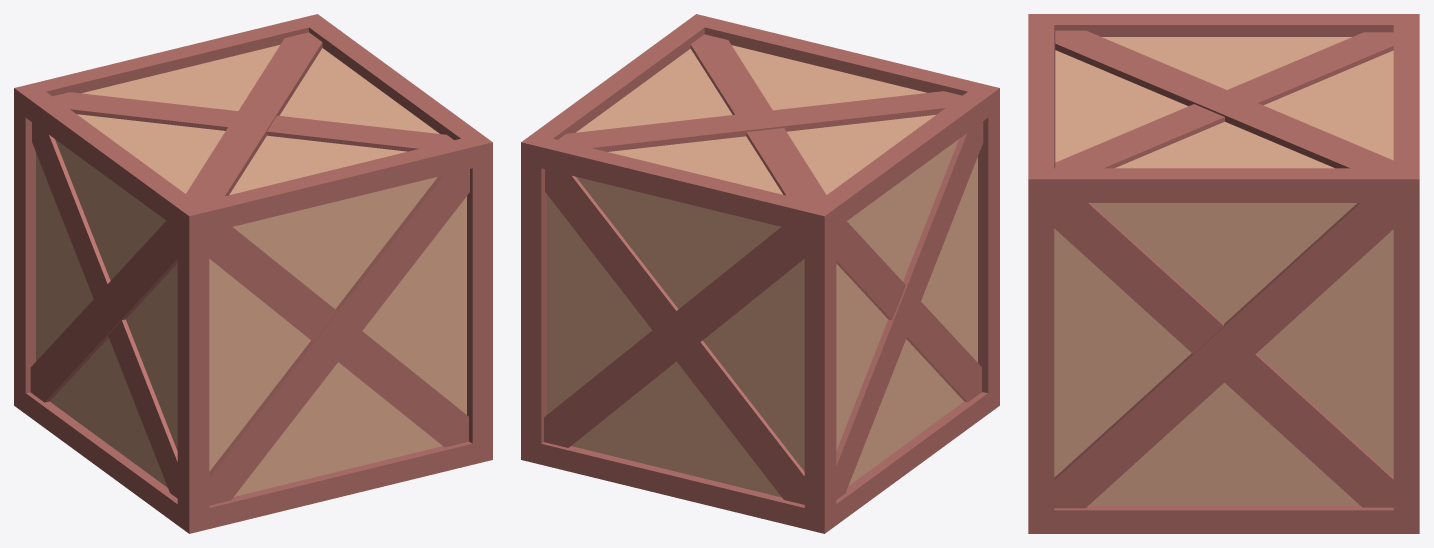
File: Crate.fbx
3 views of the same model, side by side, from view 1: azimuth 30°, elevation 25°; view 2: azimuth 150°, elevation 25°; view 3: azimuth 270°, elevation 25° (orthographic). The views are drawn at different scales.
Visible parts, largest first — view 1: CrateMain, CrateDoor; view 2: CrateMain, CrateDoor; view 3: CrateMain, CrateDoor.
Boxes of the visible parts, <box> form: CrateMain: <box>14,88,492,533</box>; CrateDoor: <box>14,14,492,216</box>; CrateMain: <box>521,88,999,533</box>; CrateDoor: <box>521,14,999,216</box>; CrateMain: <box>1028,179,1419,533</box>; CrateDoor: <box>1028,14,1419,179</box>.
Bounding box in the file's own units: 1 × 1 × 1.
